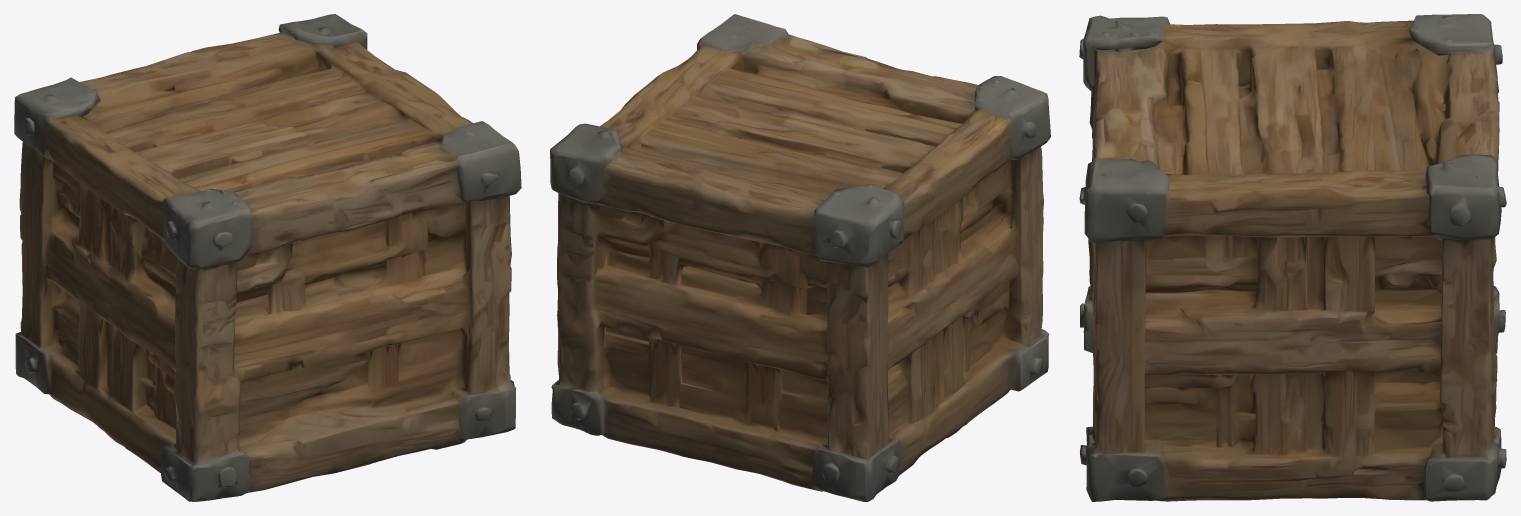
The model's file is crate.glb.
3 views of the same model, side by side, from view 1: azimuth 30°, elevation 25°; view 2: azimuth 150°, elevation 25°; view 3: azimuth 270°, elevation 25° (orthographic). The views are drawn at different scales.
Visible parts, largest first — view 1: tripo_node_7b3683b1-257d-4d0a-a2bf-8fb436abf31f; view 2: tripo_node_7b3683b1-257d-4d0a-a2bf-8fb436abf31f; view 3: tripo_node_7b3683b1-257d-4d0a-a2bf-8fb436abf31f.
Part boxes in pixels (bbox=[...]): tripo_node_7b3683b1-257d-4d0a-a2bf-8fb436abf31f: bbox=[14, 14, 521, 501]; tripo_node_7b3683b1-257d-4d0a-a2bf-8fb436abf31f: bbox=[550, 14, 1050, 501]; tripo_node_7b3683b1-257d-4d0a-a2bf-8fb436abf31f: bbox=[1079, 14, 1506, 501].
Size of the model in its own units: 1 by 0.8349 by 0.9798.
1 material, 1 textured.
